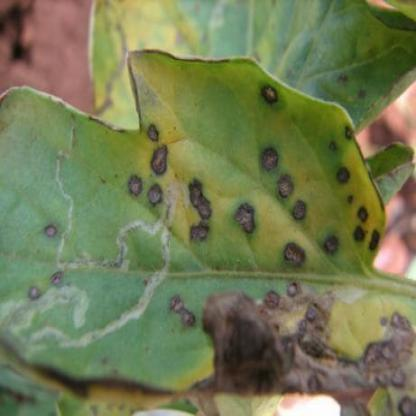Tomato Septoria leaf spot: (3, 44, 388, 384)
